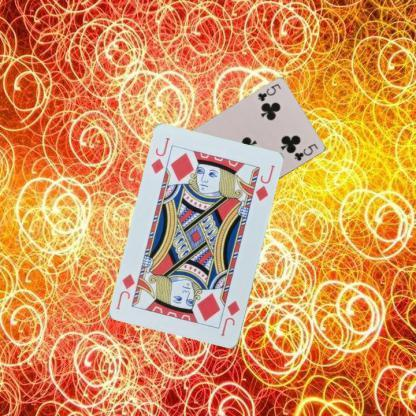5c: (255, 81, 282, 103)
Jd: (148, 135, 172, 176), (218, 298, 241, 338)
